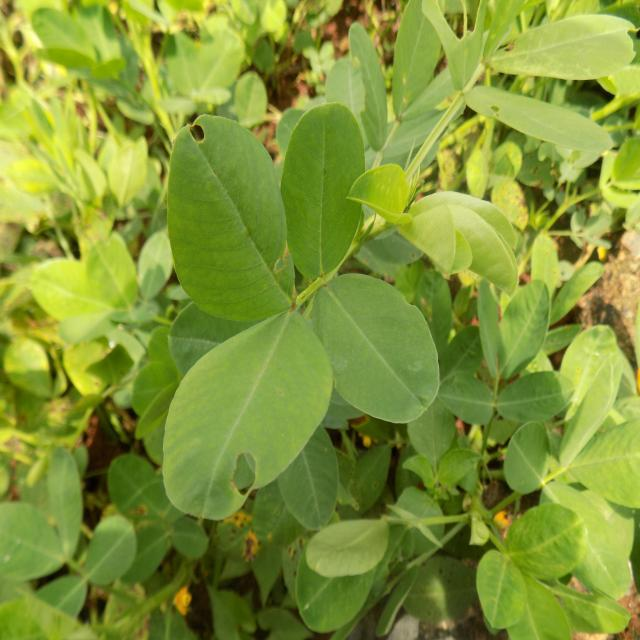Ground nut_healthy: (159, 313, 330, 531), (162, 110, 295, 310), (293, 272, 447, 428), (280, 108, 368, 290), (454, 78, 613, 176), (487, 268, 553, 384), (502, 504, 591, 581), (108, 449, 180, 538), (392, 0, 445, 117), (308, 510, 389, 582), (29, 8, 111, 78), (78, 220, 136, 314), (352, 28, 388, 166), (492, 372, 584, 424), (473, 550, 527, 629), (84, 519, 136, 577)
